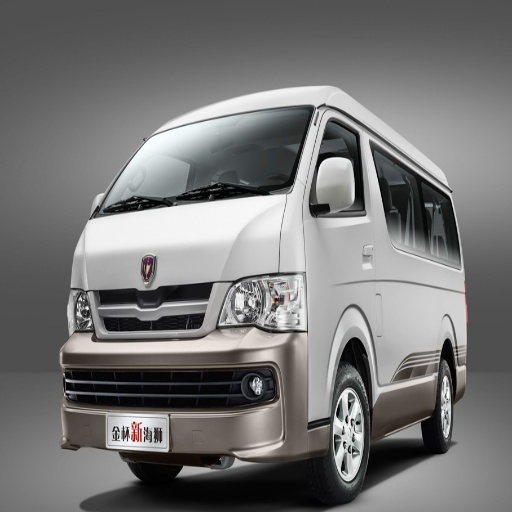front_bumper: (61, 251, 333, 467)
front_glass: (97, 109, 312, 216)
front_left_door: (306, 108, 379, 285)
trunk: (377, 268, 466, 358)
